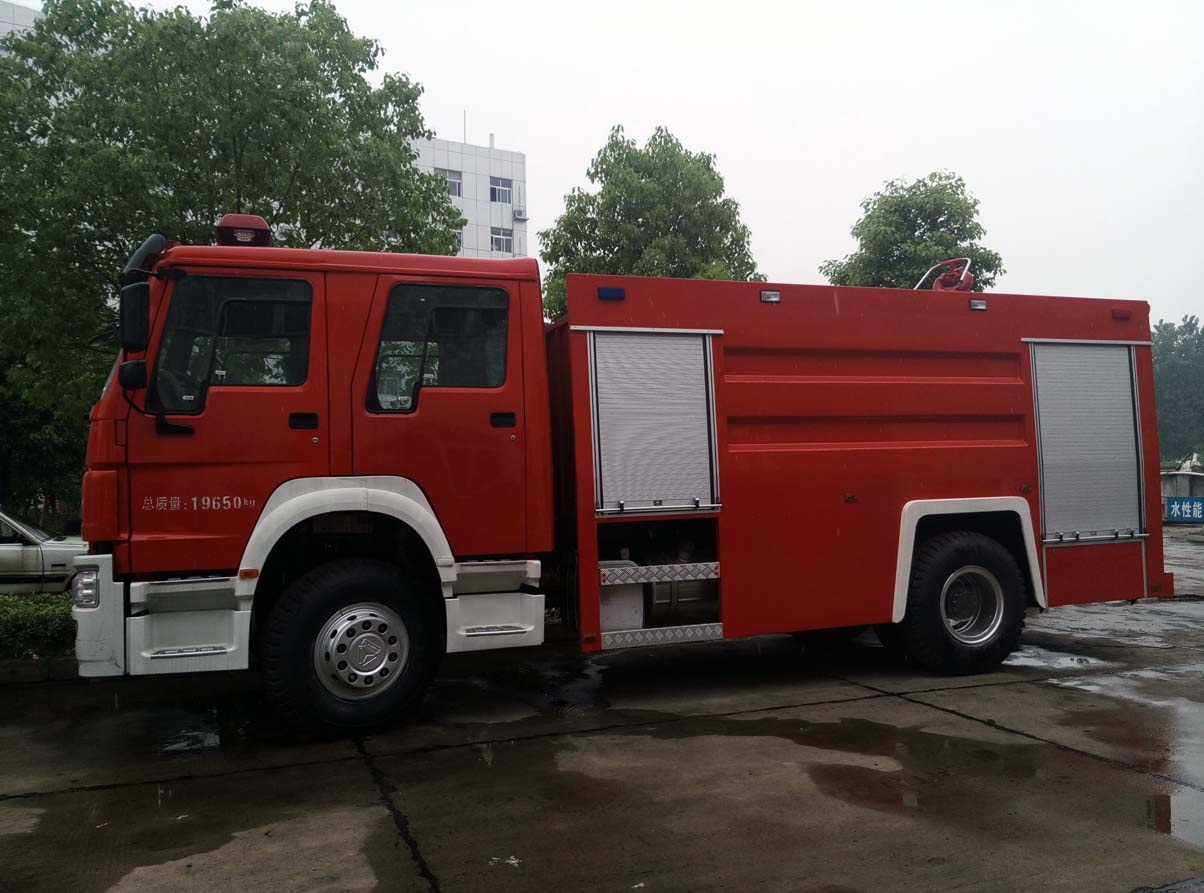fire engine: (57, 189, 1182, 719)
